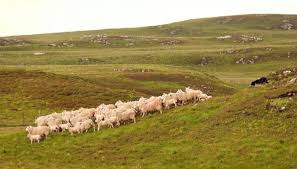sheep: (111, 111, 137, 127), (137, 101, 162, 116), (73, 120, 95, 135), (53, 120, 76, 134), (97, 118, 118, 133), (21, 132, 45, 145), (92, 106, 114, 120), (176, 89, 197, 103), (25, 125, 50, 136), (115, 100, 136, 113), (35, 116, 60, 126), (56, 110, 76, 122), (73, 108, 94, 118), (194, 91, 211, 102), (164, 96, 178, 109)
